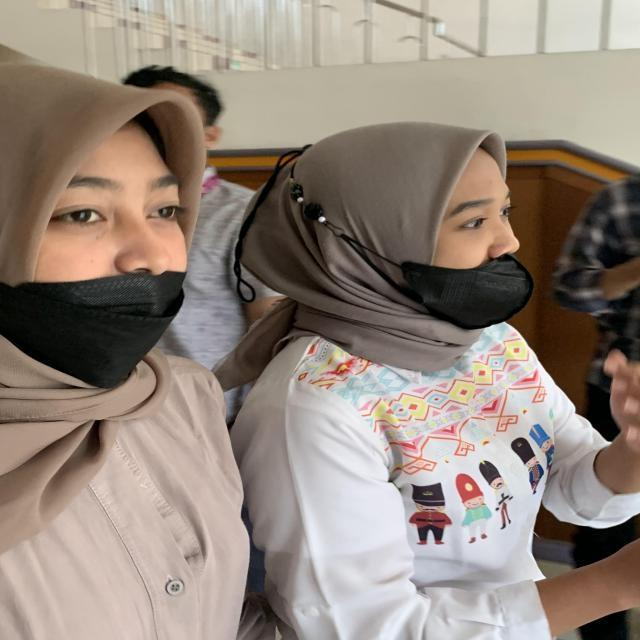hairnet: (251, 112, 540, 348)
